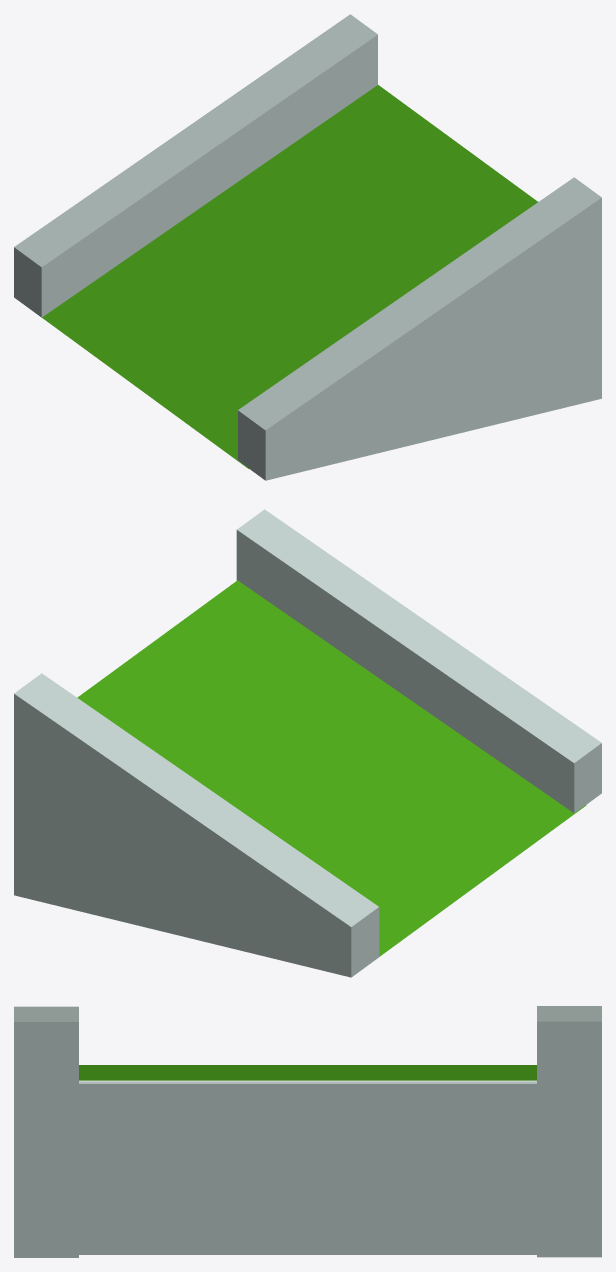
Rendered from Rampa Recta.fbx.
The picture shows the model from 3 angles, top to bottom: view 1: azimuth 30°, elevation 25°; view 2: azimuth 150°, elevation 25°; view 3: azimuth 270°, elevation 25°; orthographic projection. The views are drawn at different scales.
Visible parts, largest first — view 1: Rampa Recta; view 2: Rampa Recta; view 3: Rampa Recta.
Part boxes in pixels (x1,y1,x2,y2): Rampa Recta: [14, 14, 601, 480]; Rampa Recta: [14, 509, 601, 977]; Rampa Recta: [14, 1006, 601, 1257].
Size of the model in its own units: 70.18 by 40 by 90.38.
1 material, 1 textured.
